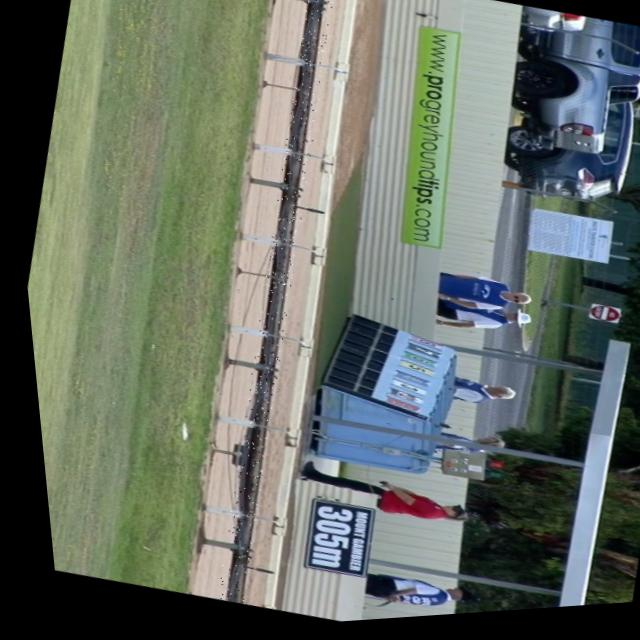rail: (210, 0, 324, 606)
